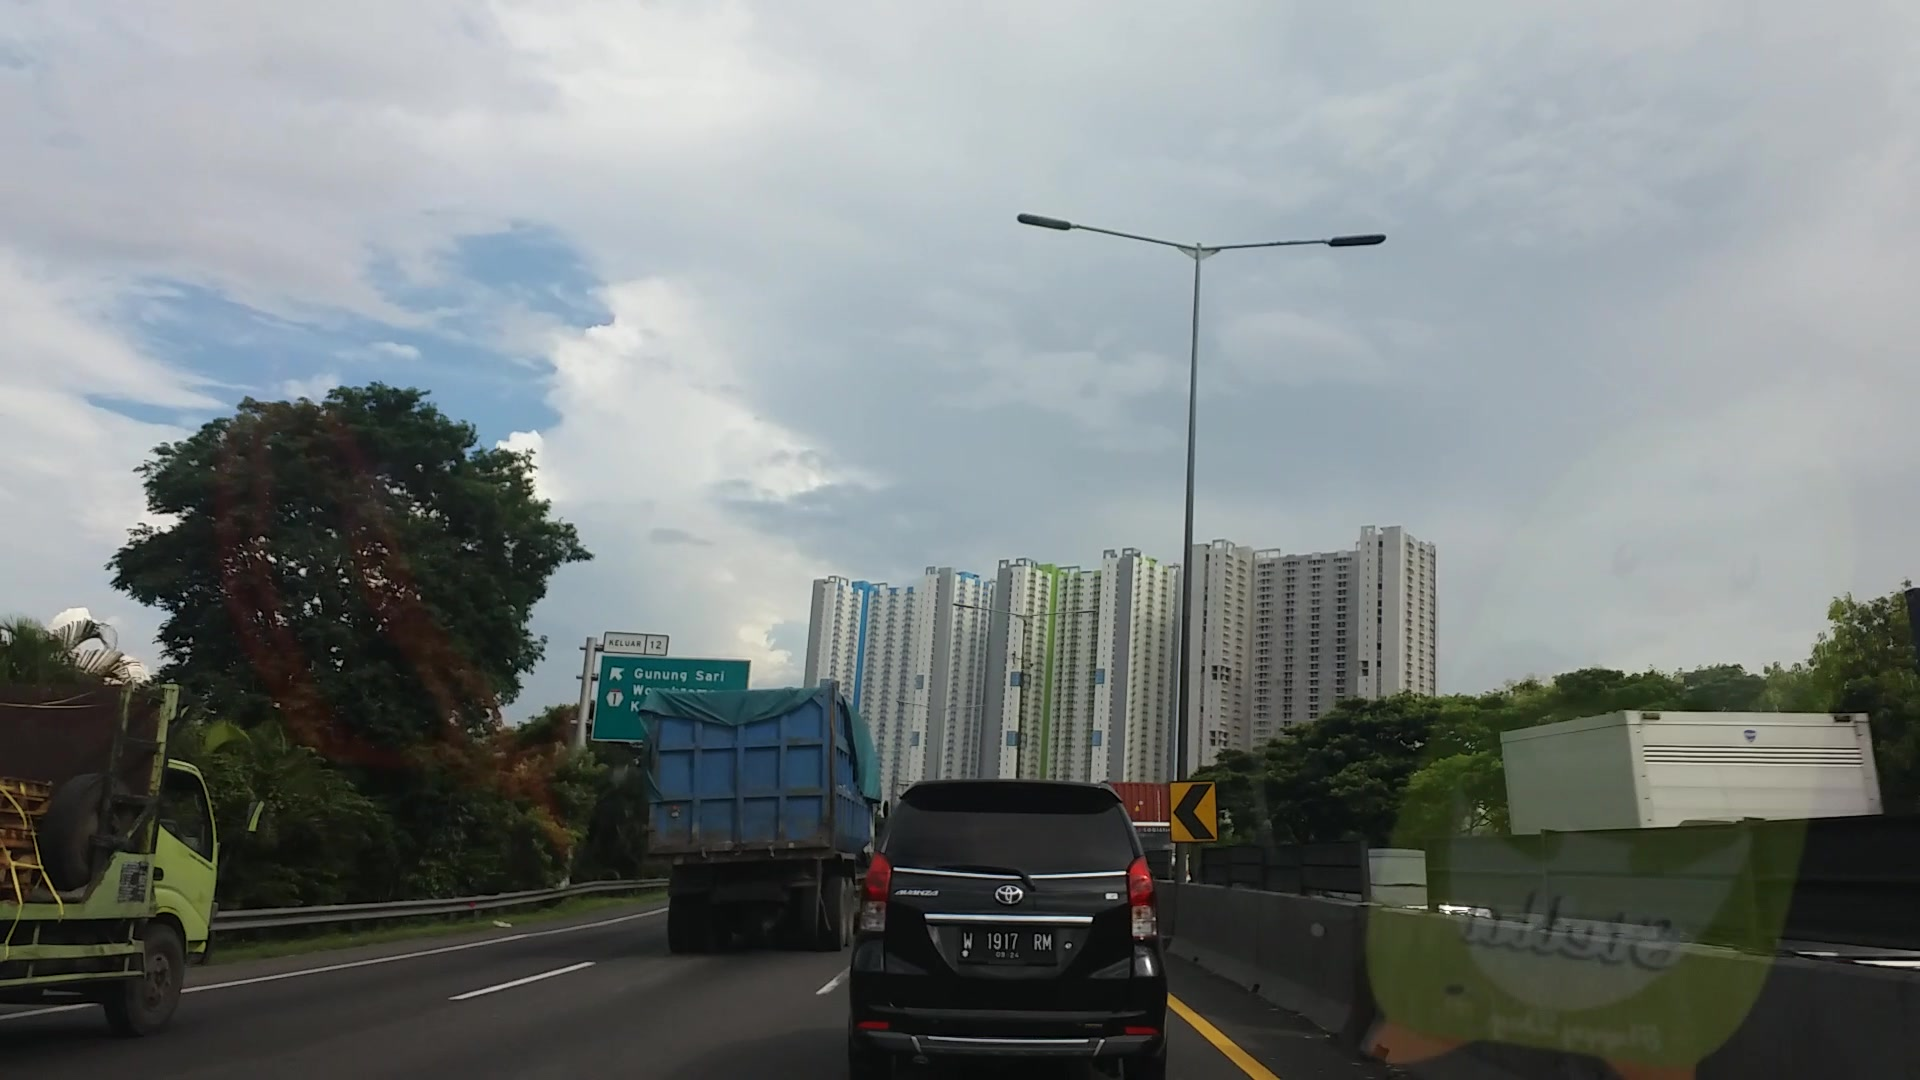plate_positive: (960, 924, 1054, 960)
